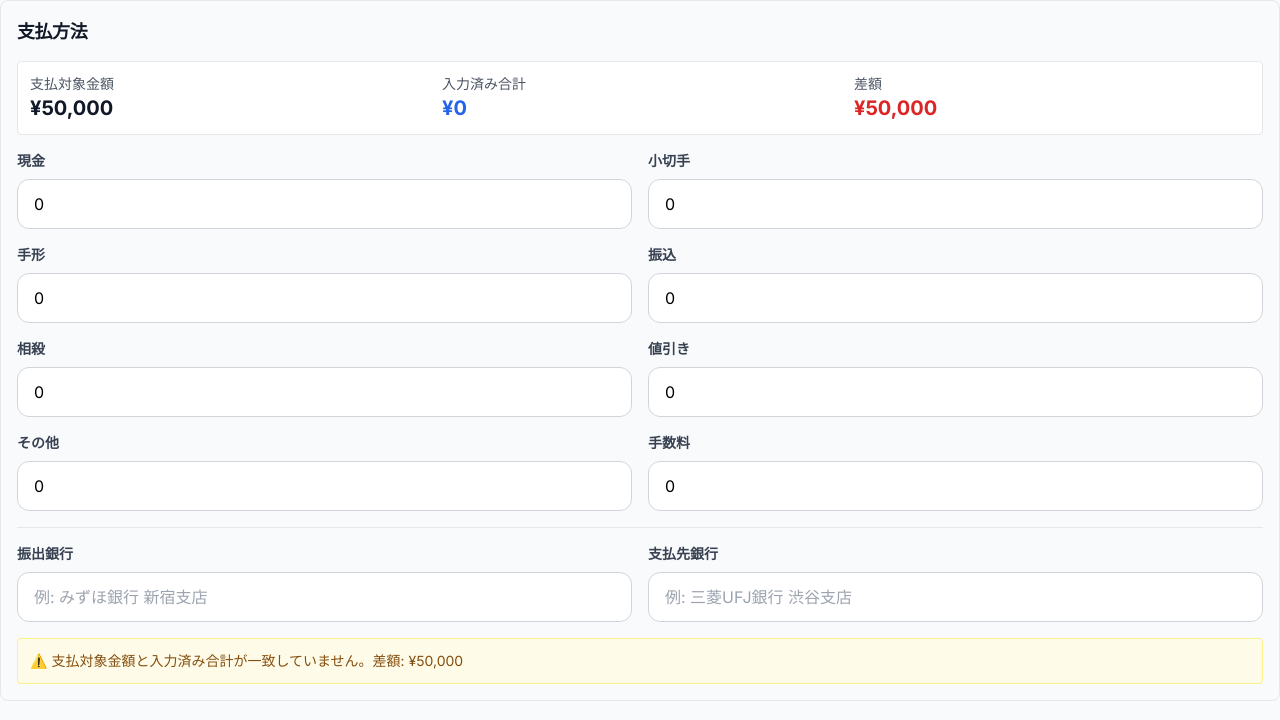
Test case: PaymentMethodInput › 差額表示 › 金額が一致する場合、差額が0で表示
In the number field with placeholder "0" below "現金": (324, 204) x1=17 y1=179 x2=632 y2=229, type "50000"
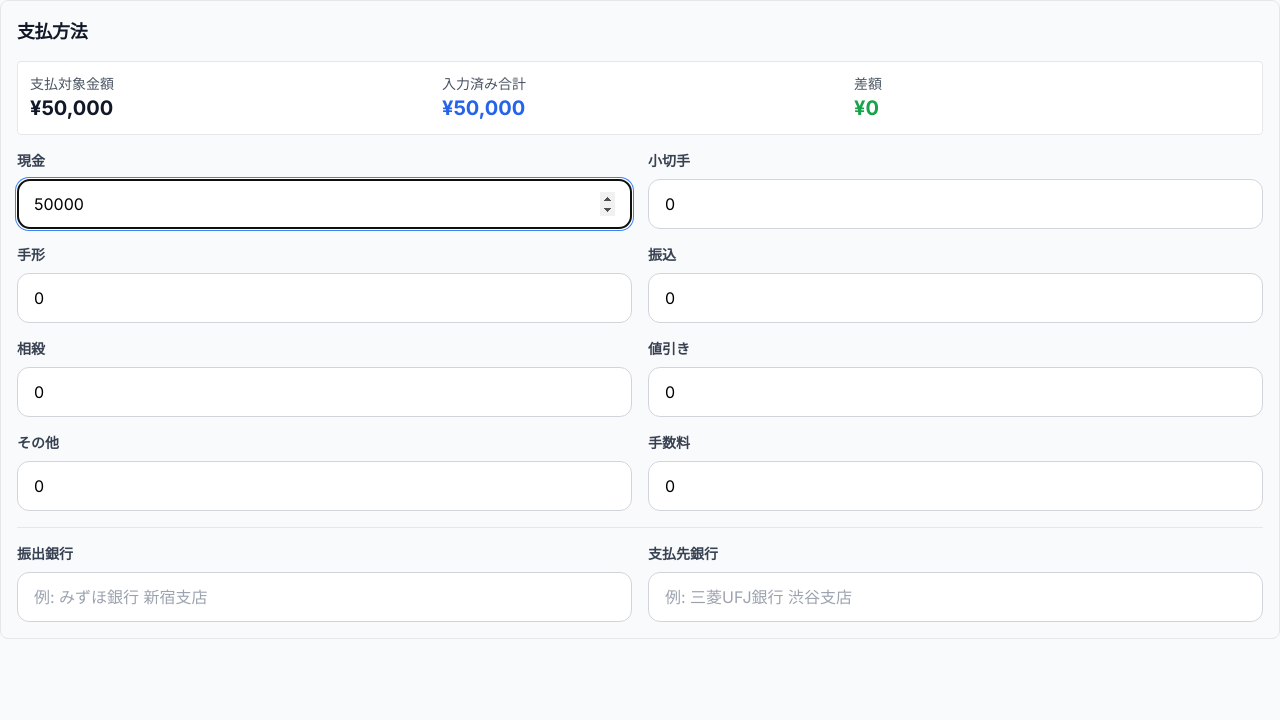
Expected: the text "¥0" is shown, x1=854 y1=96 x2=879 y2=120
